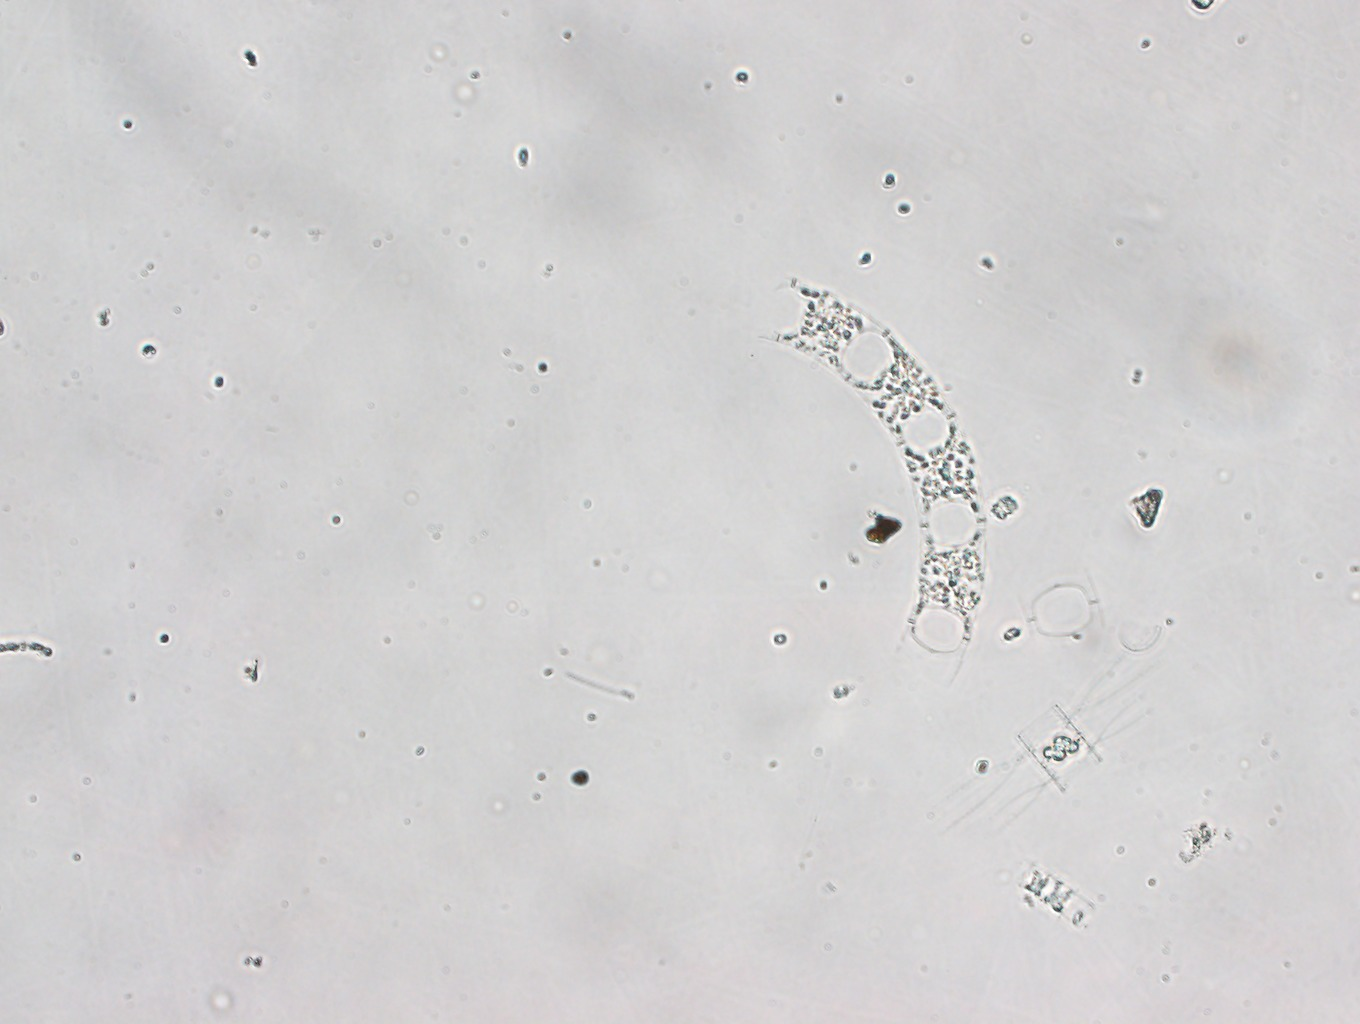coscinodiscus: (942, 642, 1161, 848)
eucampia: (750, 268, 996, 682)
